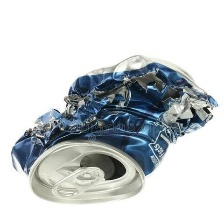can: (5, 49, 218, 213)
